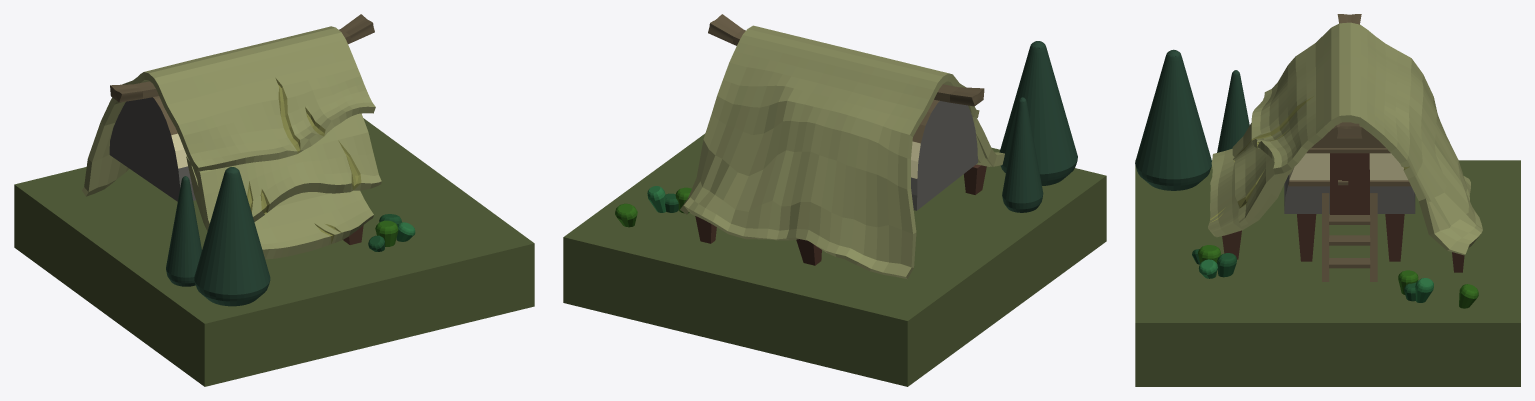
File: 茅屋导出.fbx
The picture shows the model from 3 angles, left to right: view 1: azimuth 30°, elevation 25°; view 2: azimuth 150°, elevation 25°; view 3: azimuth 270°, elevation 25°; orthographic projection. The views are drawn at different scales.
Parts seen in each view (by area): view 1: 底座, 平面.001, 平面.002, 锥体, 平面.003, 柱体, 锥体.001, 立方体, 柱体.004; view 2: 底座, 平面.001, 锥体, 柱体, 锥体.001, 立方体, 立方体.002, 立方体.005; view 3: 底座, 平面.001, 柱体, 锥体, 平面.002, 平面.003, 锥体.001, 立方体.006, 立方体.007, 立方体.010, 立方体.008, 立方体 (+7 smaller).
Boxes of the visible parts, x1,y1,x2,y2 form: 底座: [14, 118, 534, 386]; 平面.001: [82, 26, 375, 196]; 平面.002: [193, 113, 381, 230]; 锥体: [194, 167, 270, 306]; 平面.003: [186, 156, 373, 259]; 柱体: [109, 96, 195, 201]; 锥体.001: [166, 176, 201, 286]; 立方体: [110, 14, 374, 102]; 柱体.004: [375, 220, 398, 246]; 底座: [563, 133, 1106, 386]; 平面.001: [680, 25, 979, 279]; 锥体: [999, 41, 1077, 185]; 柱体: [911, 99, 977, 210]; 锥体.001: [1002, 97, 1043, 212]; 立方体: [708, 14, 984, 106]; 立方体.002: [964, 164, 986, 194]; 立方体.005: [796, 239, 821, 265]; 底座: [1135, 160, 1520, 386]; 平面.001: [1251, 22, 1482, 255]; 柱体: [1284, 123, 1415, 214]; 锥体: [1135, 49, 1211, 190]; 平面.002: [1232, 123, 1293, 226]; 平面.003: [1208, 148, 1287, 237]; 锥体.001: [1217, 70, 1249, 152]; 立方体.006: [1297, 214, 1316, 261]; 立方体.007: [1385, 214, 1404, 261]; 立方体.010: [1370, 193, 1377, 281]; 立方体.008: [1322, 193, 1329, 281]; 立方体: [1337, 14, 1362, 138].
Bounding box in the file's own units: 484 × 316 × 484.
